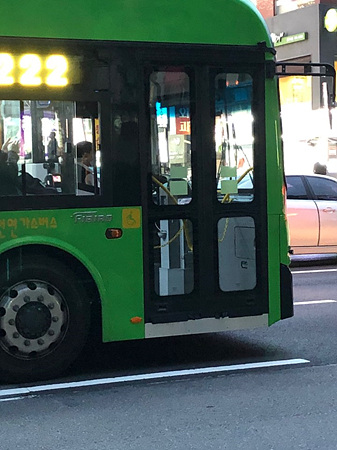entrance: (141, 42, 272, 320)
